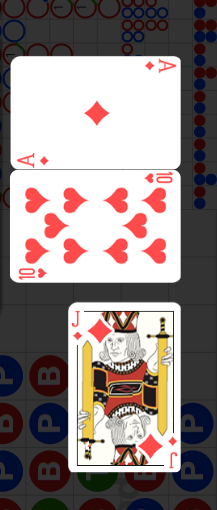10H: (16, 267, 48, 281)
AD: (141, 59, 176, 76)
